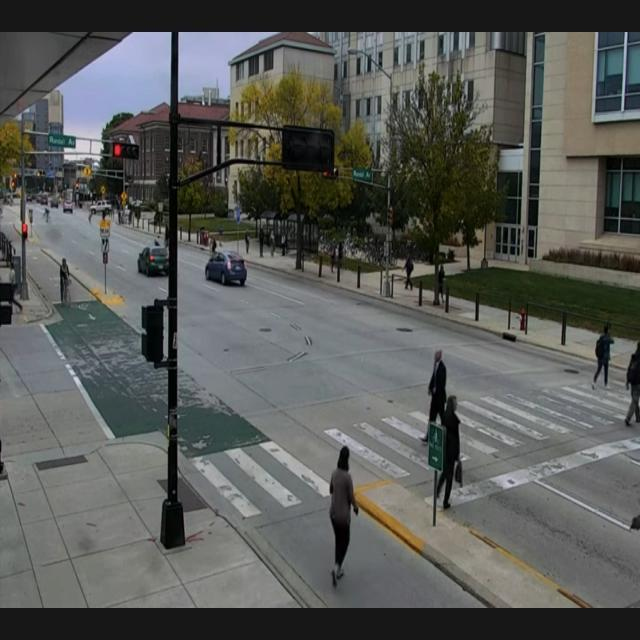Walking: (48, 234, 82, 332), (390, 246, 421, 314), (430, 252, 456, 317), (264, 206, 279, 274), (237, 217, 254, 272)
crossing: (292, 407, 378, 602), (430, 383, 481, 517), (407, 327, 453, 473)
objects: (586, 295, 624, 408), (628, 319, 640, 451)
standing: (278, 216, 295, 274)
